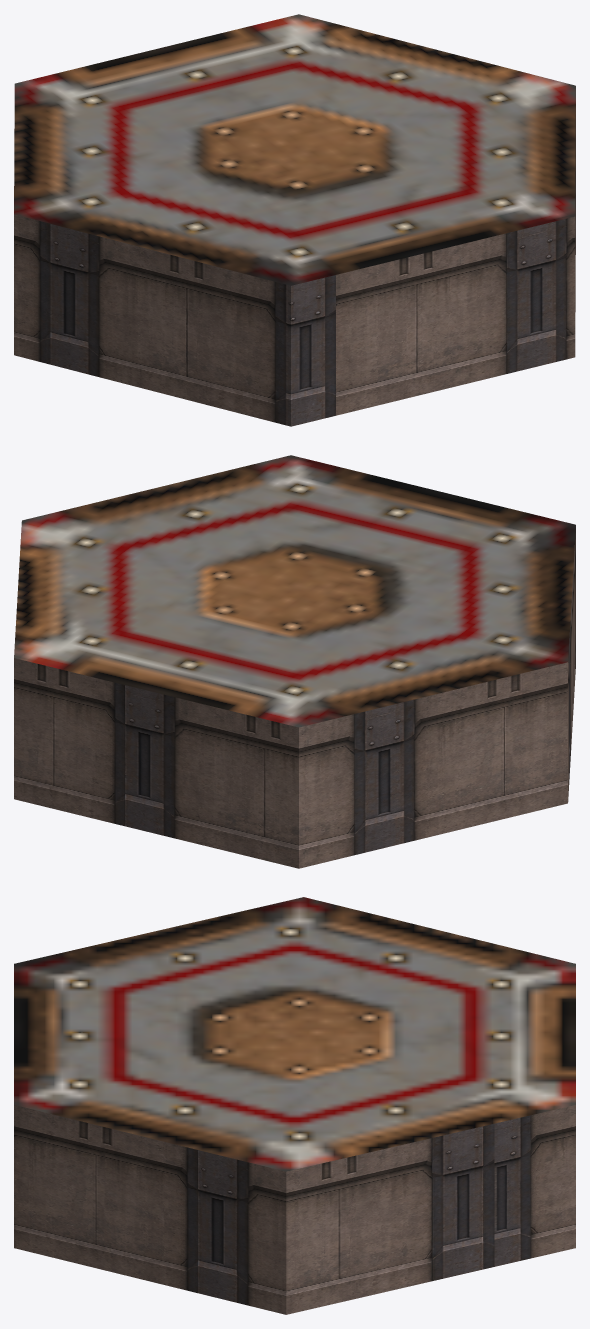
The model's file is bsealed_medium_a_00.glb.
The picture shows the model from 3 angles, top to bottom: view 1: azimuth 30°, elevation 25°; view 2: azimuth 150°, elevation 25°; view 3: azimuth 270°, elevation 25°; orthographic projection.
Visible parts, largest first — view 1: buildings/saxarba/bsealed_medium/bsealed_medium_a_00; view 2: buildings/saxarba/bsealed_medium/bsealed_medium_a_00; view 3: buildings/saxarba/bsealed_medium/bsealed_medium_a_00.
Part boxes in pixels (x1=…): buildings/saxarba/bsealed_medium/bsealed_medium_a_00: x1=14, y1=14, x2=575, y2=426; buildings/saxarba/bsealed_medium/bsealed_medium_a_00: x1=14, y1=455, x2=575, y2=868; buildings/saxarba/bsealed_medium/bsealed_medium_a_00: x1=14, y1=897, x2=575, y2=1314.
Size of the model in its own units: 74 by 18 by 64.
